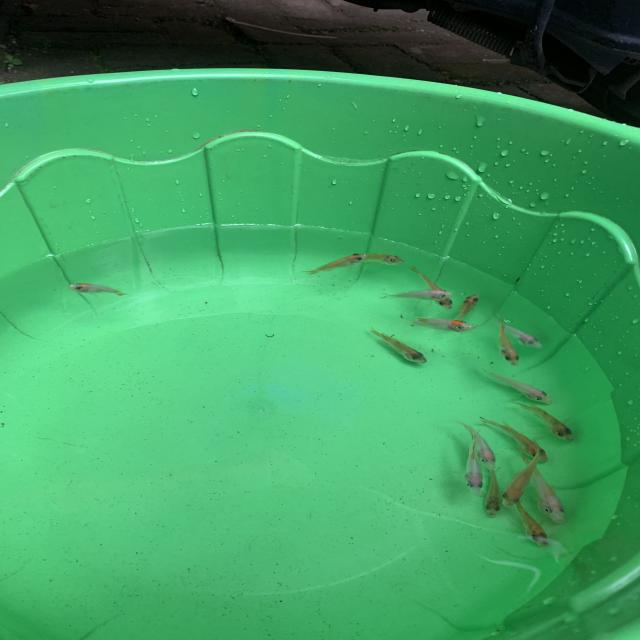nila: (480, 409, 559, 467), (516, 448, 571, 530), (450, 412, 506, 478), (500, 444, 548, 515), (510, 398, 578, 446), (481, 366, 554, 406), (368, 326, 438, 366), (408, 264, 460, 316), (509, 494, 550, 554), (491, 315, 548, 354), (490, 315, 529, 369), (457, 426, 486, 496), (394, 313, 484, 335), (481, 459, 509, 526), (306, 251, 370, 278), (57, 279, 136, 300), (448, 289, 488, 327), (343, 249, 412, 269), (372, 288, 458, 304)
